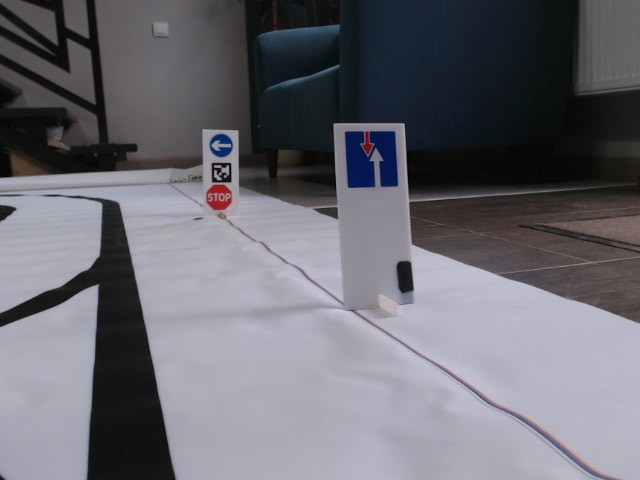Stop: (206, 183, 232, 209)
priority_movement: (345, 131, 398, 188)
